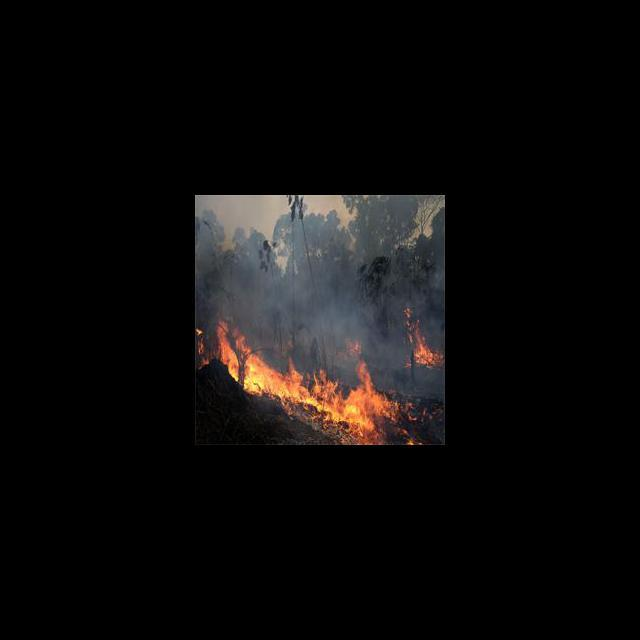Fire: (200, 320, 394, 444), (402, 306, 444, 370)
